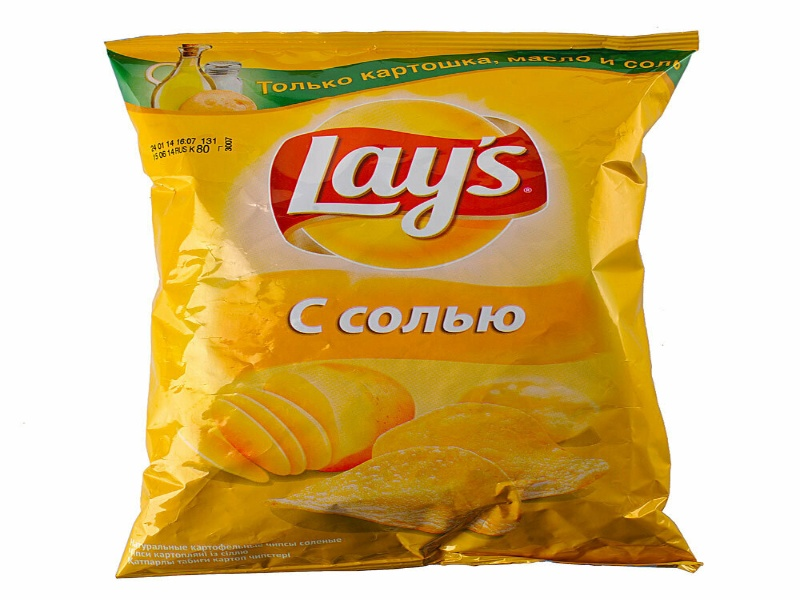chips: (85, 16, 729, 600)
